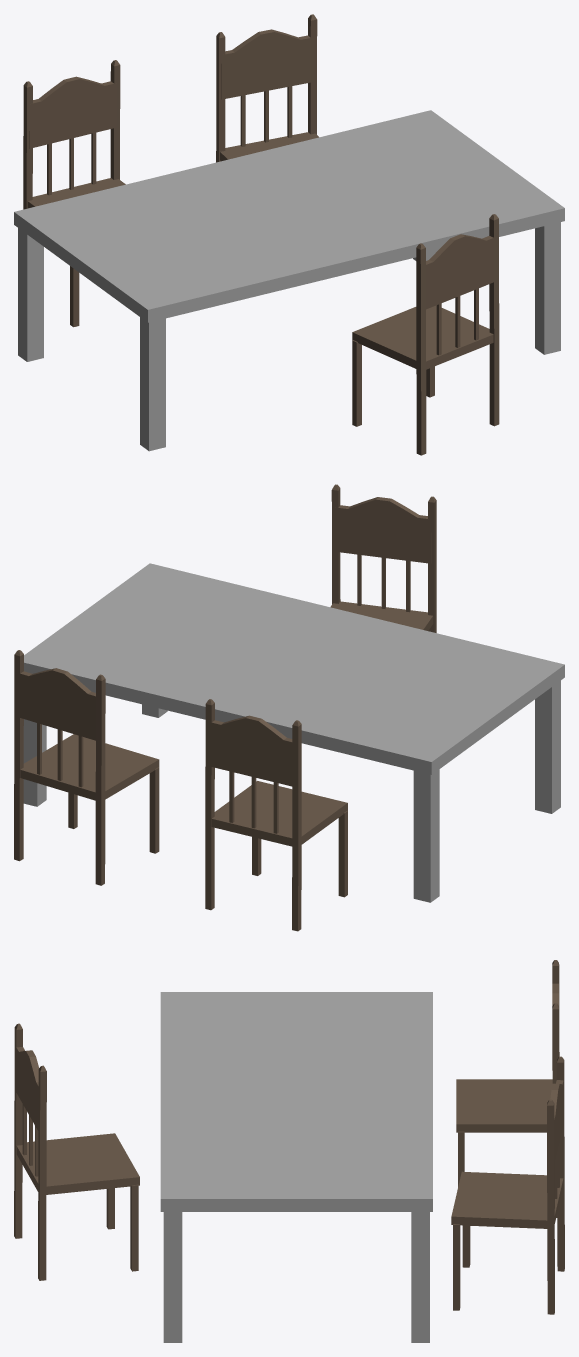
Rendered from table.fbx.
3 views of the same model, one above another, from view 1: azimuth 30°, elevation 25°; view 2: azimuth 150°, elevation 25°; view 3: azimuth 270°, elevation 25° (orthographic). The views are drawn at different scales.
Visible parts, largest first — view 1: table, chaise_2, chaise_1, chaise_3; view 2: table, chaise_1, chaise_3, chaise_2; view 3: table, chaise_2, chaise_3, chaise_1.
Boxes of the visible parts, x1,y1,x2,y2 form: table: [14, 110, 564, 451]; chaise_2: [352, 214, 499, 455]; chaise_1: [23, 60, 125, 327]; chaise_3: [216, 14, 318, 162]; table: [23, 563, 564, 902]; chaise_1: [205, 699, 347, 931]; chaise_3: [14, 650, 159, 885]; chaise_2: [330, 484, 436, 632]; table: [160, 992, 432, 1342]; chaise_2: [14, 1023, 139, 1280]; chaise_3: [451, 1056, 564, 1314]; chaise_1: [456, 960, 559, 1217].
Bounding box in the file's own units: 2.46 × 1.19 × 2.77.
